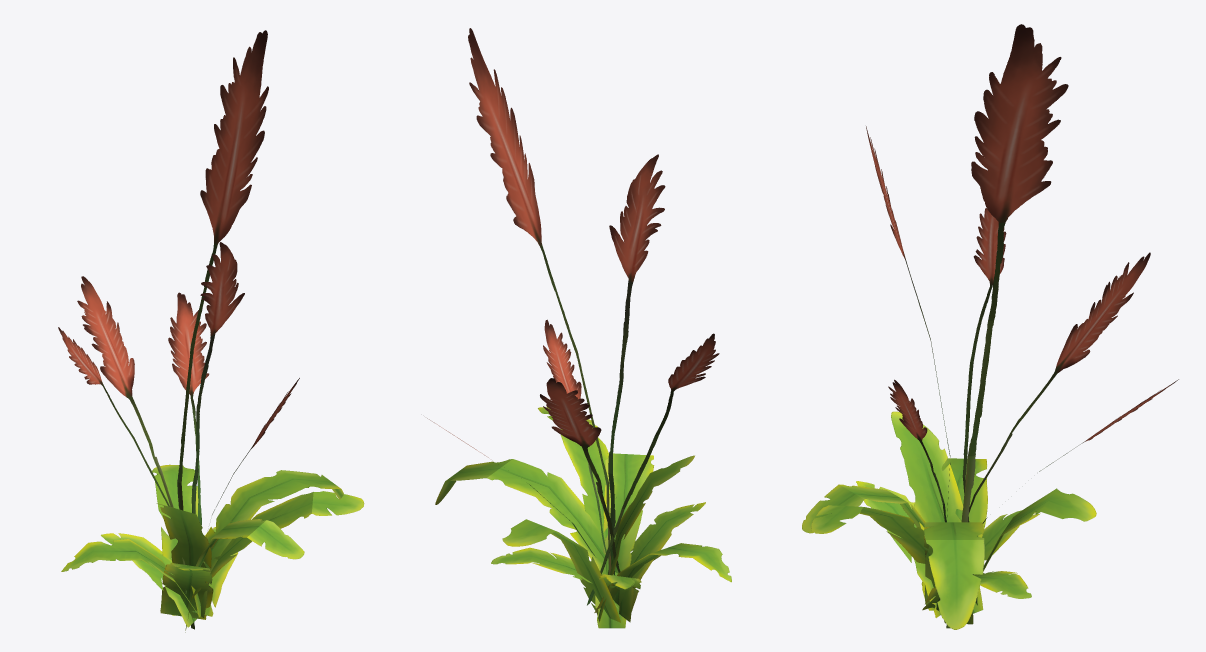
Rendered from Feather Plant.fbx.
3 views of the same model, side by side, from view 1: azimuth 30°, elevation 25°; view 2: azimuth 150°, elevation 25°; view 3: azimuth 270°, elevation 25° (orthographic). The views are drawn at different scales.
Visible parts, largest first — view 1: Plant2; view 2: Plant2; view 3: Plant2.
Part boxes in pixels (x1,y1,x2,y2): Plant2: (58,30,364,632); Plant2: (427,28,731,628); Plant2: (802,24,1178,629).
Size of the model in its own units: 5.78 by 9.83 by 5.35.
Materials: 2 (2 with a texture image).
